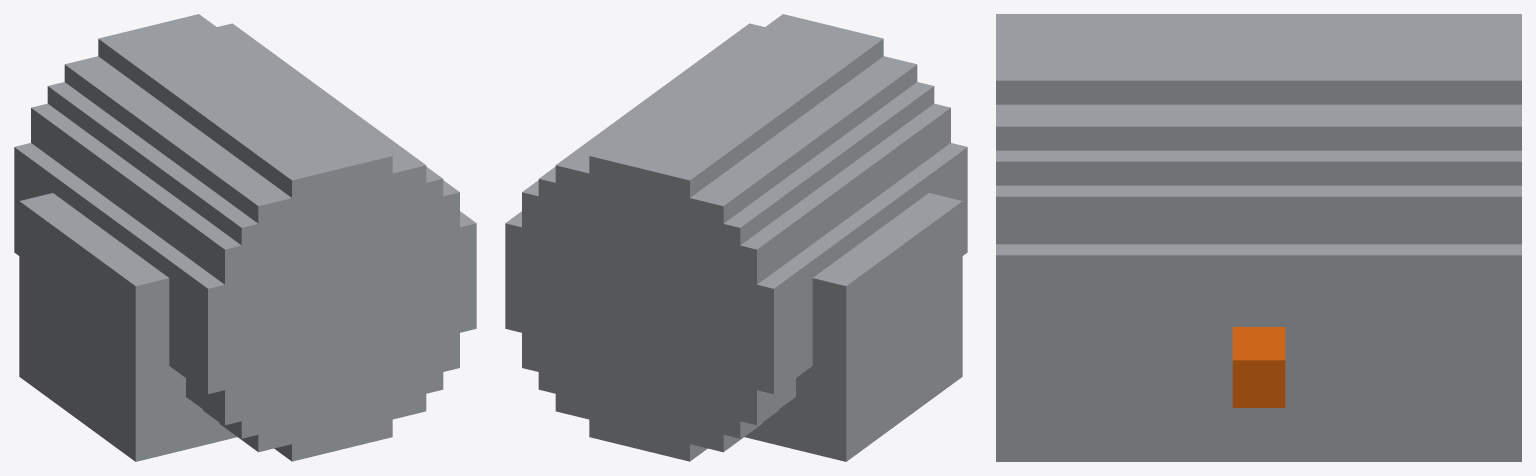
The model's file is traction_motor_large.glb.
3 renders of one model, left to right at view 1: azimuth 30°, elevation 25°; view 2: azimuth 150°, elevation 25°; view 3: azimuth 270°, elevation 25°, orthographic. The views are drawn at different scales.
Parts seen in each view (by area): view 1: body:compound; view 2: body:compound; view 3: body:compound.
Boxes of the visible parts, x1,y1,x2,y2 form: body:compound: [14, 14, 476, 461]; body:compound: [505, 14, 967, 461]; body:compound: [996, 14, 1521, 461].
Size of the model in its own units: 0.6562 by 0.5 by 0.625.
